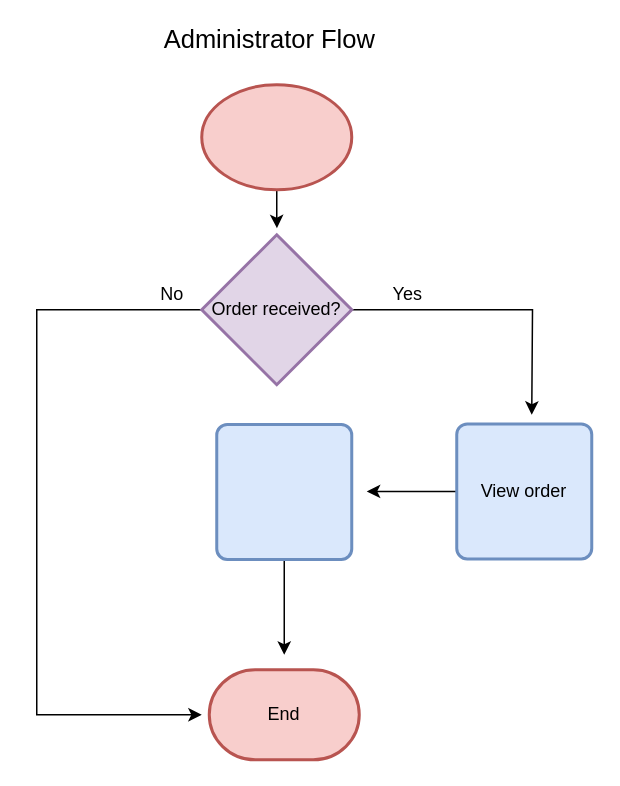
Some shapes in this 620 by 786 pixel diagram are drawn without their labels. Here are the shapes that lost their labels. From the top down, the centre of each, then its label:
At (276,136): "Start".
At (283,491): "Submit order to cook".
